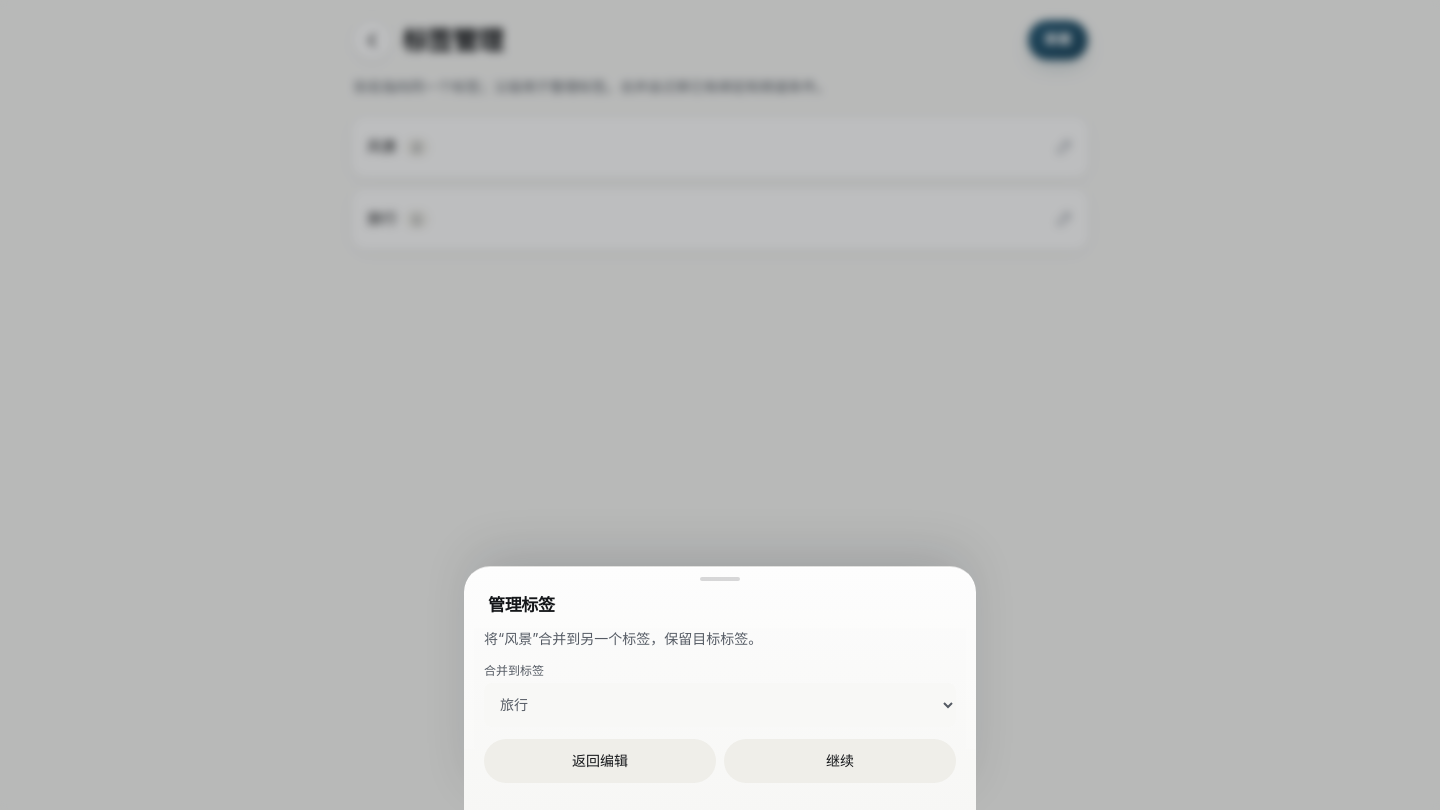
Scenario: merges only after choosing a different destination and confirming the source and target
The width and height of the screenshot is (1440, 810).
Earlier steps of the test are not shown.
Later steps or results of the test are not shown.
Click the button with aria-label "继续合并标签" at {"x": 840, "y": 761}, box 724,739 -> 956,783
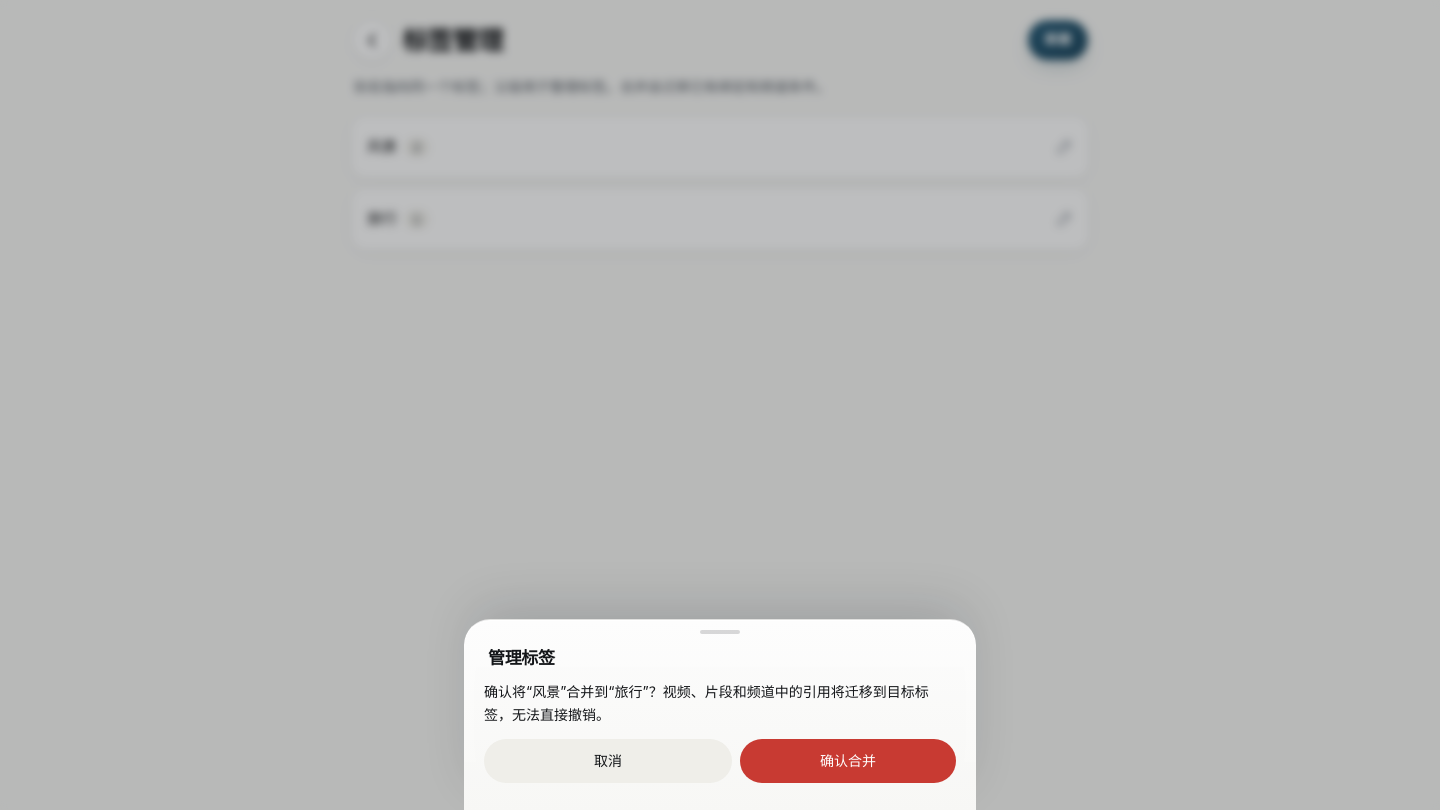
Expected: the dialog shows "风景", 484,683 -> 929,723
Expected: the dialog shows "旅行", 484,683 -> 929,723
